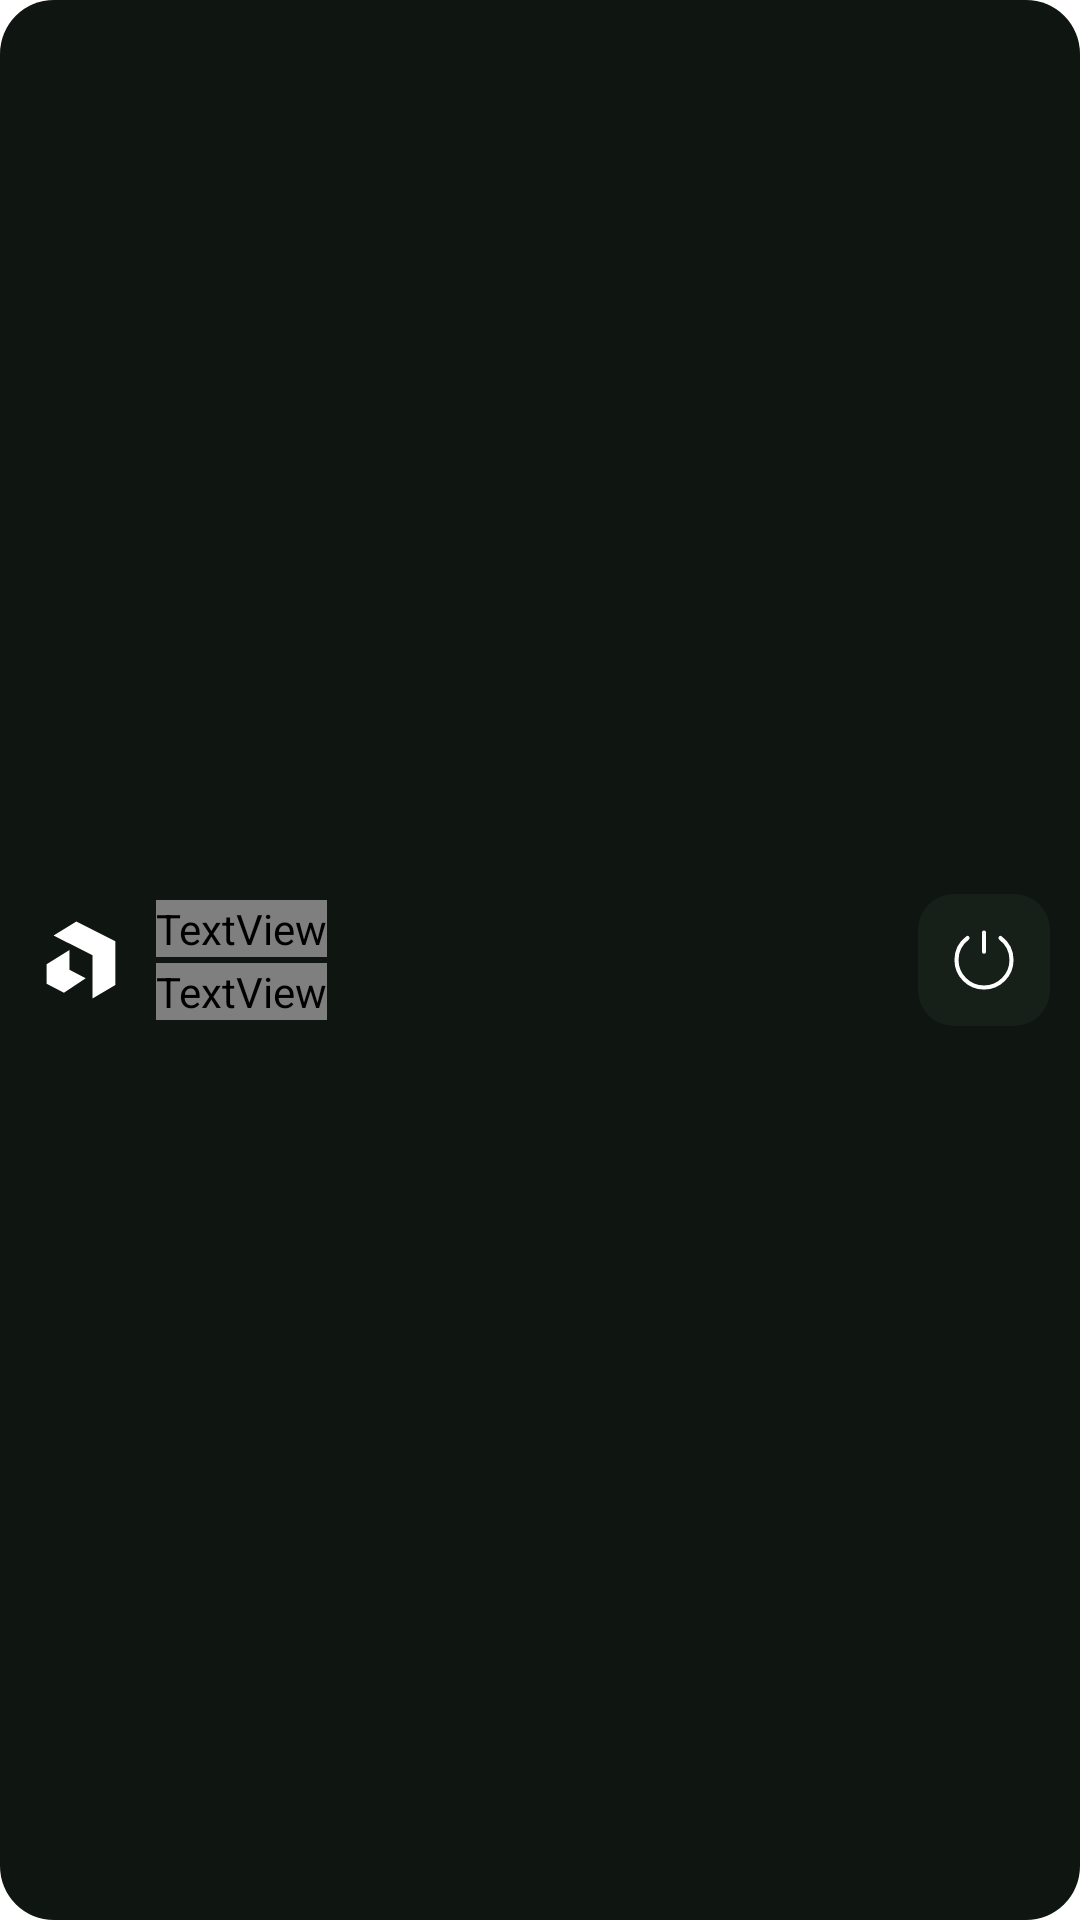

Locate icon controls on the screen. Image size 1080*1920, boxes as (x1, y1, x2, y2).
Toggle the connection: (954, 930, 1014, 990)
